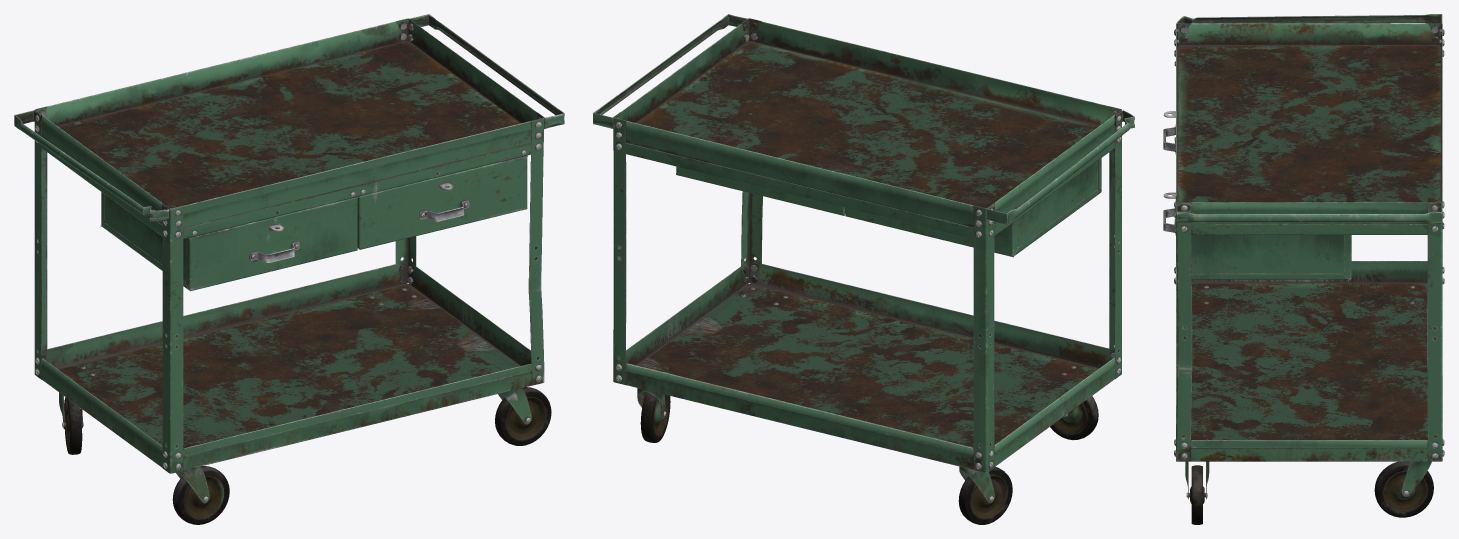
Rendered from tool_cart.glb.
3 views of the same model, side by side, from view 1: azimuth 30°, elevation 25°; view 2: azimuth 150°, elevation 25°; view 3: azimuth 270°, elevation 25° (orthographic). The views are drawn at different scales.
Visible parts, largest first — view 1: tool_cart; view 2: tool_cart; view 3: tool_cart.
Part boxes in pixels (box(x1,y1,x2,y2)): tool_cart: box(14, 14, 564, 524); tool_cart: box(593, 14, 1134, 524); tool_cart: box(1163, 14, 1444, 524).
Size of the model in its own units: 1.27 by 0.9646 by 0.7537.
Materials: 1 (1 with a texture image).
